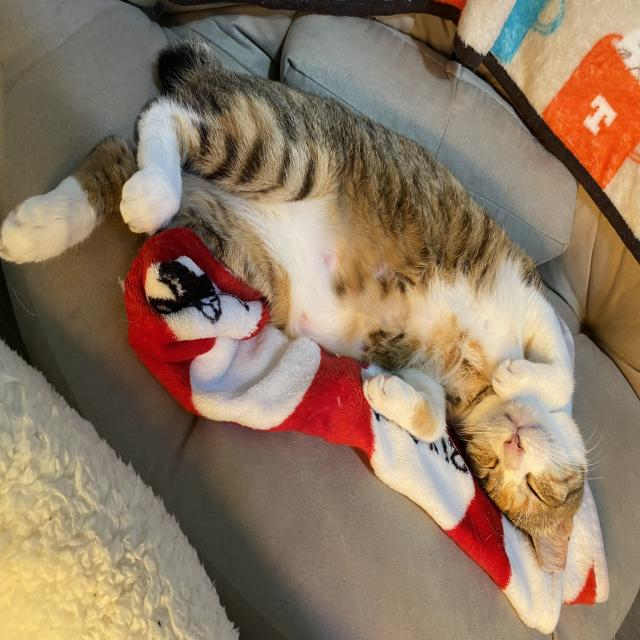cat2: (2, 33, 592, 576)
